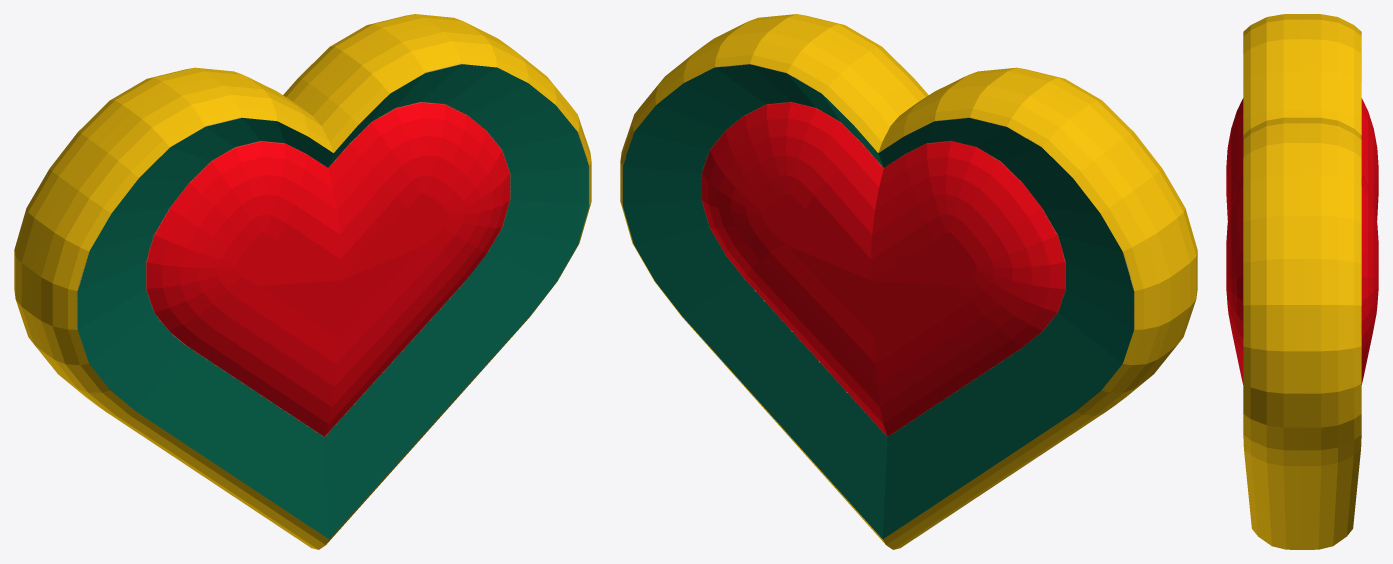
The model's file is heart.fbx.
3 renders of one model, left to right at view 1: azimuth 30°, elevation 25°; view 2: azimuth 150°, elevation 25°; view 3: azimuth 270°, elevation 25°, orthographic. The views are drawn at different scales.
Visible parts, largest first — view 1: Cube; view 2: Cube; view 3: Cube.
Boxes of the visible parts, bbox=[...] form: Cube: bbox=[14, 14, 591, 549]; Cube: bbox=[620, 14, 1197, 549]; Cube: bbox=[1226, 14, 1378, 549].
Bounding box in the file's own units: 480 × 410 × 121.
Materials: 1 (1 with a texture image).
